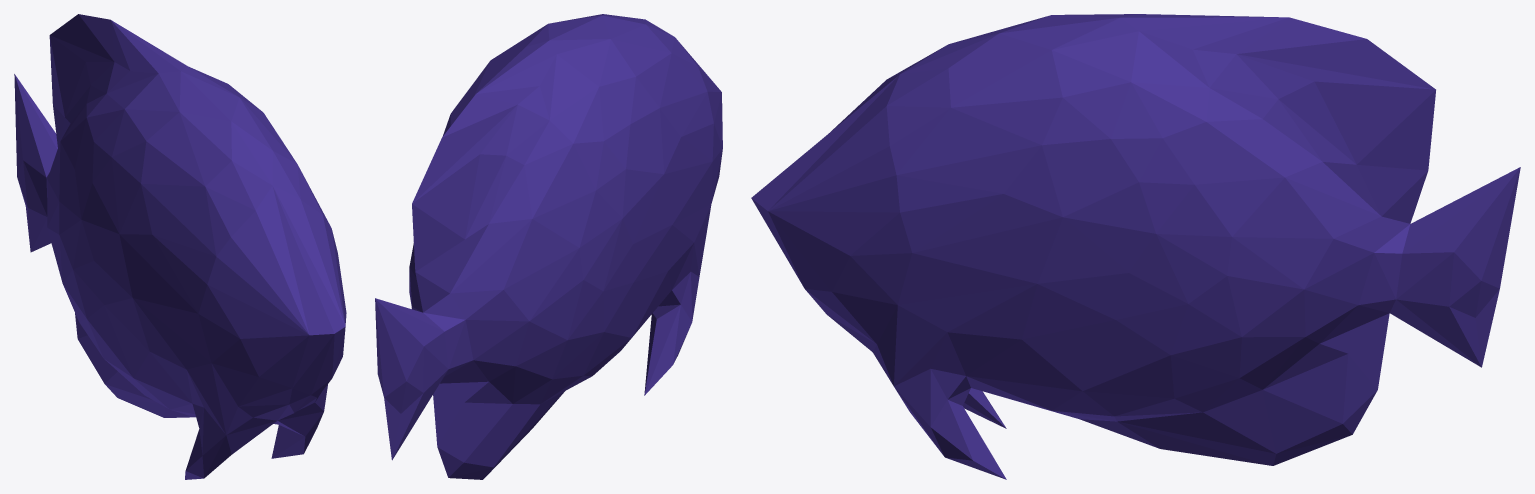
The model's file is Fish_04.fbx.
The picture shows the model from 3 angles, left to right: view 1: azimuth 30°, elevation 25°; view 2: azimuth 150°, elevation 25°; view 3: azimuth 270°, elevation 25°; orthographic projection. The views are drawn at different scales.
Visible parts, largest first — view 1: Fish_04; view 2: Fish_04; view 3: Fish_04.
Part boxes in pixels (x1,y1,x2,y2): Fish_04: [14, 14, 346, 479]; Fish_04: [375, 14, 722, 479]; Fish_04: [751, 14, 1520, 479].
Size of the model in its own units: 106 by 222 by 345.
